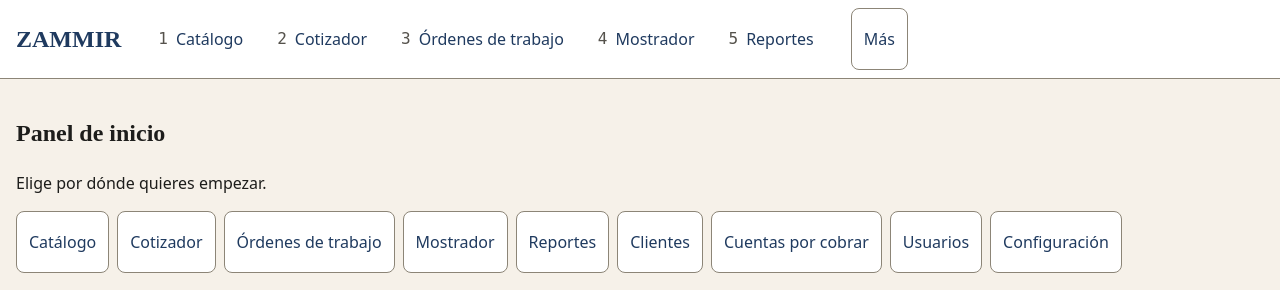
Scenario: App y navegación › al elegir un acceso del panel de inicio abre esa sección
Click the link "Cotizador" at (166,242), box 117,211 -> 216,273
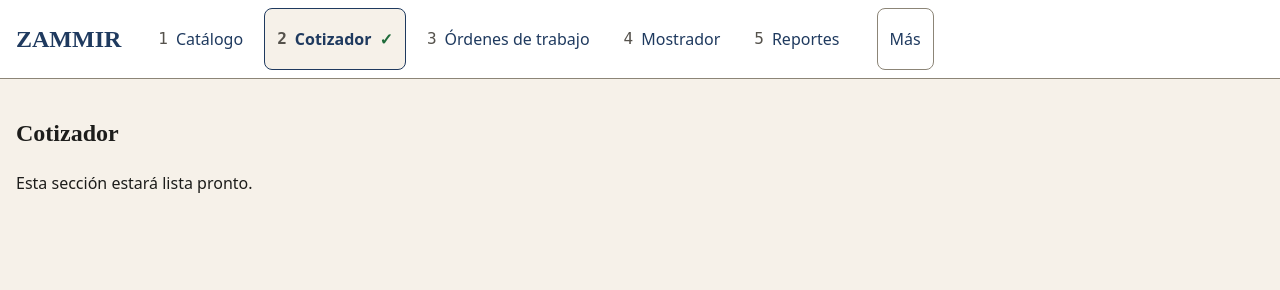
Result: the heading "Cotizador" is shown at 16,120 -> 119,146
